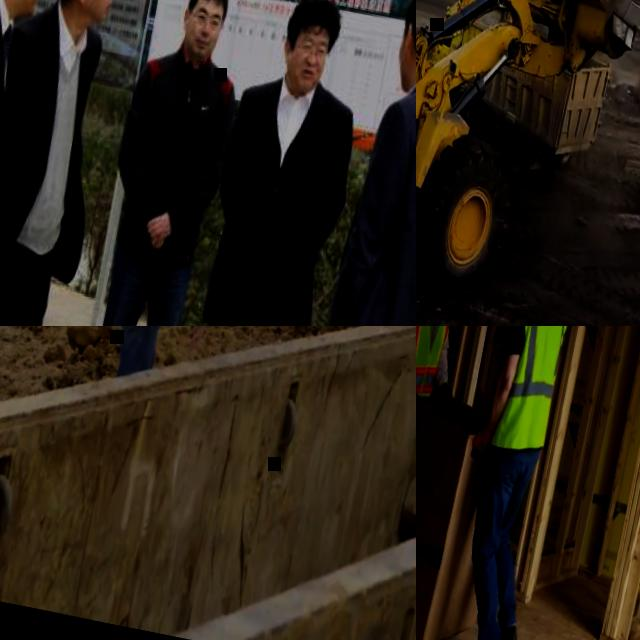NO-Hardhat: (288, 0, 342, 36), (188, 0, 232, 9)
NO-Mask: (180, 28, 218, 63), (286, 58, 322, 94), (390, 47, 416, 89), (12, 0, 49, 21), (80, 0, 112, 24)
NO-Safety Vest: (206, 79, 345, 326), (0, 9, 104, 262), (119, 54, 229, 253), (341, 82, 416, 326), (0, 0, 31, 325)
Person: (163, 0, 382, 326), (58, 0, 259, 326), (426, 326, 604, 640), (0, 0, 125, 326), (297, 0, 416, 326), (0, 0, 68, 326), (416, 326, 491, 608)
Safety Vest: (479, 326, 576, 455), (416, 326, 462, 423)
vehicle: (416, 0, 640, 326), (417, 0, 623, 195)
